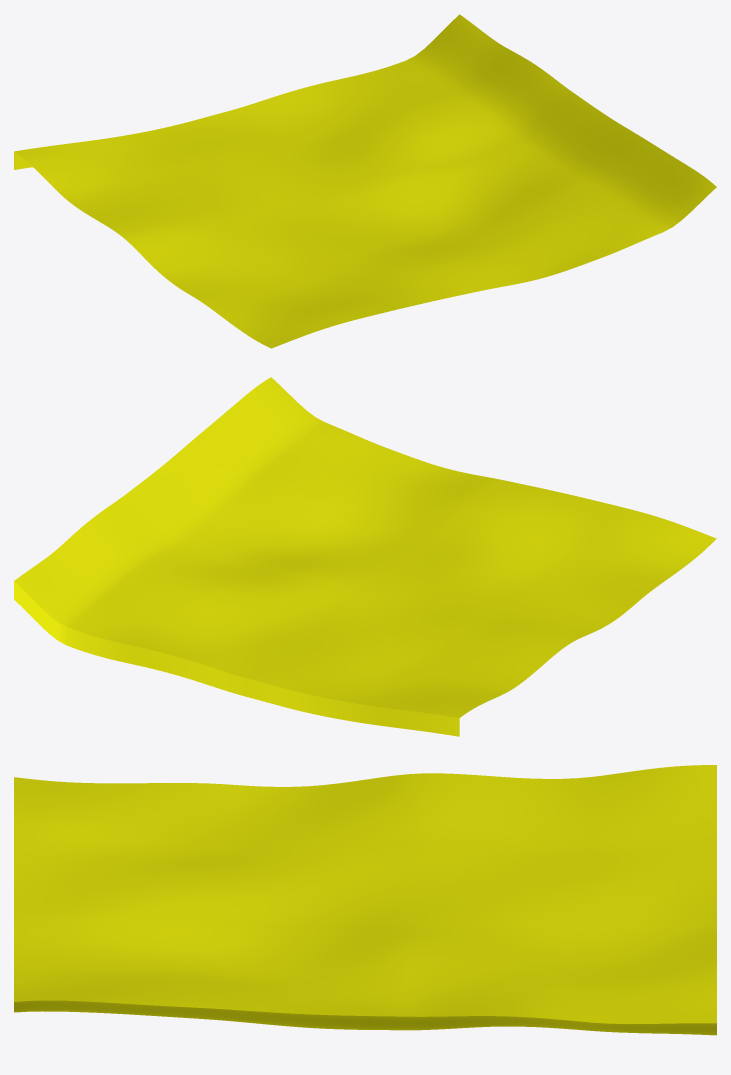
The model's file is terrain_1_3.glb.
3 views of the same model, one above another, from view 1: azimuth 30°, elevation 25°; view 2: azimuth 150°, elevation 25°; view 3: azimuth 270°, elevation 25° (orthographic). The views are drawn at different scales.
Visible parts, largest first — view 1: terrain_1_3.0; view 2: terrain_1_3.0, terrain_1_3.1; view 3: terrain_1_3.0.
Part boxes in pixels (bbox=[...]): terrain_1_3.0: bbox=[14, 14, 716, 348]; terrain_1_3.0: bbox=[14, 377, 716, 717]; terrain_1_3.1: bbox=[14, 581, 459, 736]; terrain_1_3.0: bbox=[14, 765, 716, 1035].
Bounding box in the file's own units: 50 × 8.25 × 50.
